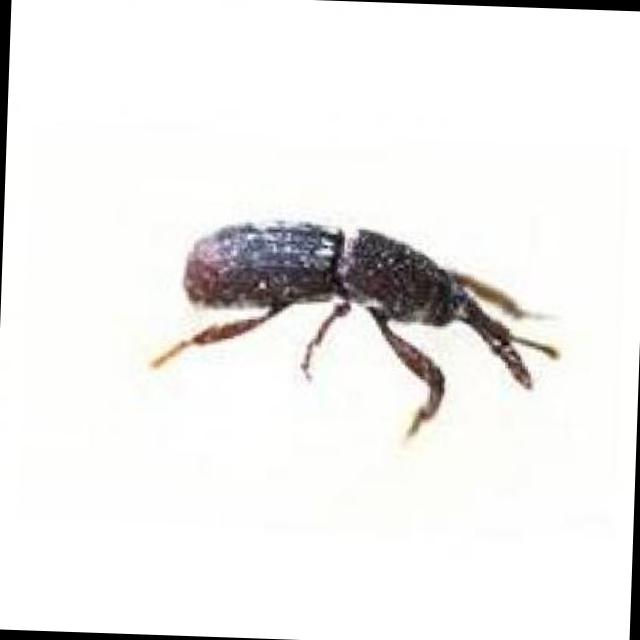rice-bug: (172, 209, 556, 399)
